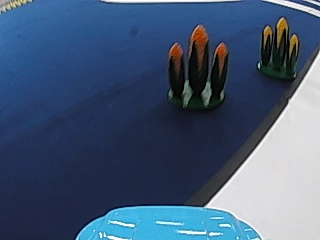corn: (163, 25, 231, 110), (256, 13, 300, 79)
